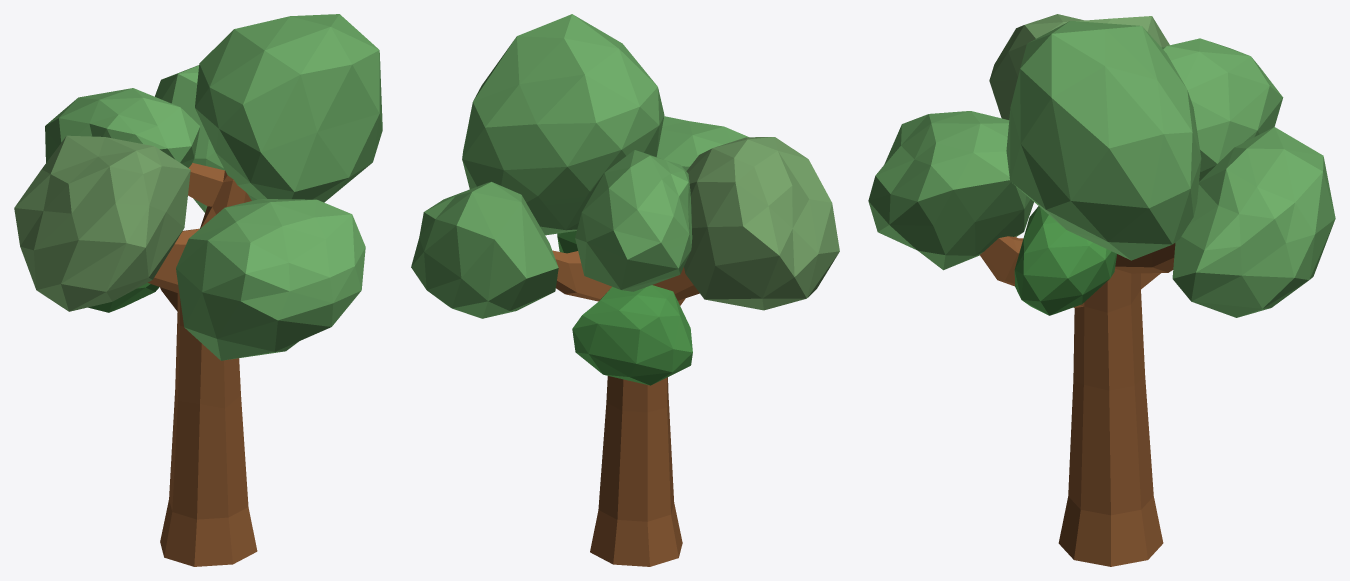
File: f_long_oak_tree4.fbx
The picture shows the model from 3 angles, left to right: view 1: azimuth 30°, elevation 25°; view 2: azimuth 150°, elevation 25°; view 3: azimuth 270°, elevation 25°; orthographic projection. The views are drawn at different scales.
Parts seen in each view (by area): view 1: Leaves; view 2: Leaves; view 3: Leaves.
Part boxes in pixels (x1,y1,x2,y2): Leaves: [14, 14, 382, 566]; Leaves: [411, 14, 839, 566]; Leaves: [868, 14, 1335, 566].
Size of the model in its own units: 1218 by 1691 by 1280.
